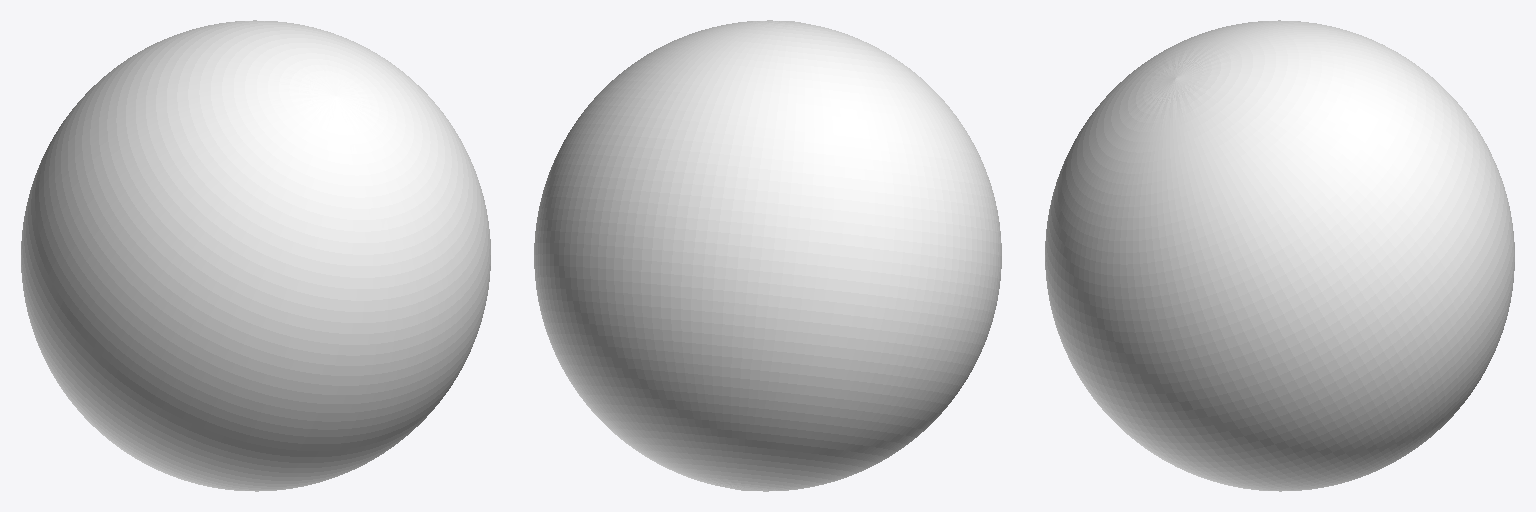
URDF robot description (ball):
<robot name="ball">
	<link name="_name">
		<visual>
			<origin rpy="0 0 0" xyz="2.557086257603153e-07 -1.8857761320510345e-07 -0.995153272419358" />
			<geometry>
				<mesh filename="ball/basketball_corrected.obj" scale="1.0 1.0 1.0" />
			</geometry>
			<material name="texture">
				<color rgba="1.0 1.0 1.0 1.0" />
			</material>
		</visual>
		<collision>
			<geometry>
				<mesh filename="ball/basketball_corrected_vhacd.obj" scale="1.0 1.0 1.0" />
			</geometry>
		<origin rpy="0 0 0" xyz="2.557086257603153e-07 -1.8857761320510345e-07 -0.995153272419358" /></collision>
		<inertial>
			<mass value="0.10" />
			<inertia ixx="0.10" ixy="0.0" ixz="0.0" iyy="0.10" iyz="0.0" izz="0.10" />
		</inertial>
	</link>
</robot>

--- Render facts (derived) ---
3 views of the same robot in one strip: view 1: azimuth 30°, elevation 25°; view 2: azimuth 150°, elevation 25°; view 3: azimuth 270°, elevation 25° (orthographic).
Model ball with 1 links and 0 joints (none), rooted at _name, posed all joints at 0.
Links seen in each view (by area): view 1: _name; view 2: _name; view 3: _name.
Link boxes in pixels (x1=…): _name: x1=21, y1=20, x2=490, y2=491; _name: x1=534, y1=20, x2=1001, y2=491; _name: x1=1045, y1=20, x2=1514, y2=491.
Bounding box of the posed robot: 1.98 × 1.98 × 1.99 m (x, y, z).
1 mesh visuals loaded from 1 distinct referenced files (1 OBJ).